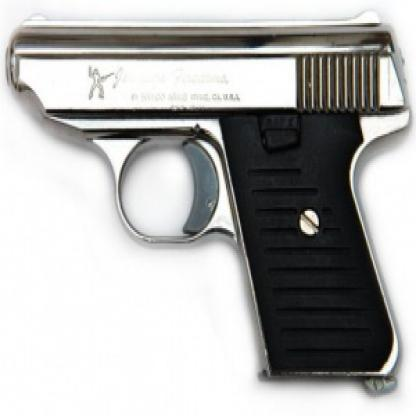Guns: (1, 4, 414, 395)
